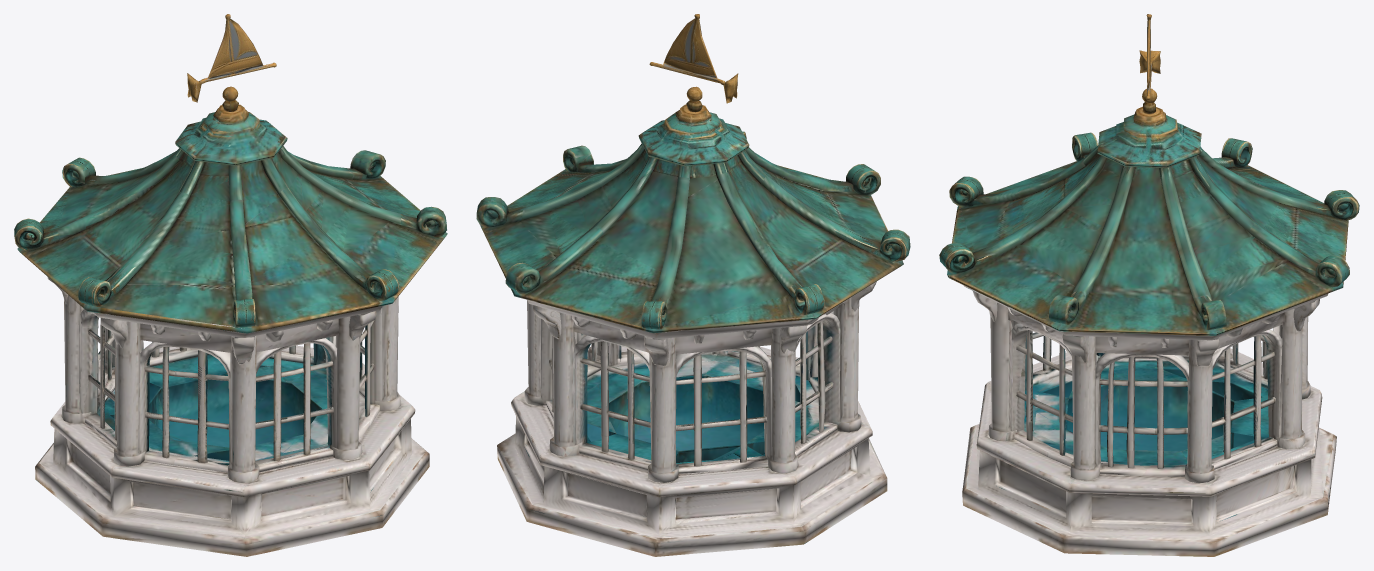
Rendered from cupola.glb.
3 views of the same model, side by side, from view 1: azimuth 30°, elevation 25°; view 2: azimuth 150°, elevation 25°; view 3: azimuth 270°, elevation 25° (orthographic).
Visible parts, largest first — view 1: cupola_LOD0; view 2: cupola_LOD0; view 3: cupola_LOD0.
Boxes of the visible parts, x1,y1,x2,y2 form: cupola_LOD0: [14, 14, 447, 556]; cupola_LOD0: [476, 14, 910, 556]; cupola_LOD0: [939, 14, 1359, 556].
Size of the model in its own units: 0.8376 by 1 by 0.8264.
Materials: 1 (1 with a texture image).
